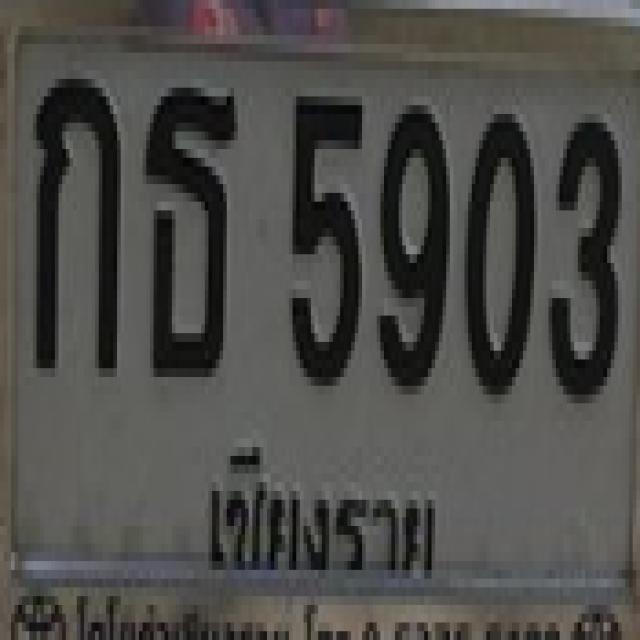license_plate: (11, 17, 640, 605)
